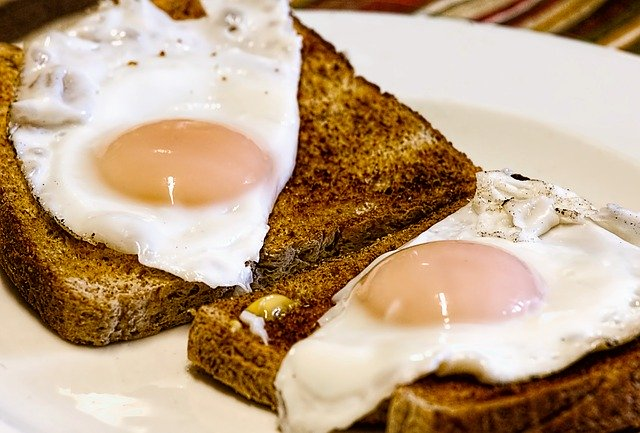Telur: (338, 174, 588, 387), (97, 47, 277, 250)
